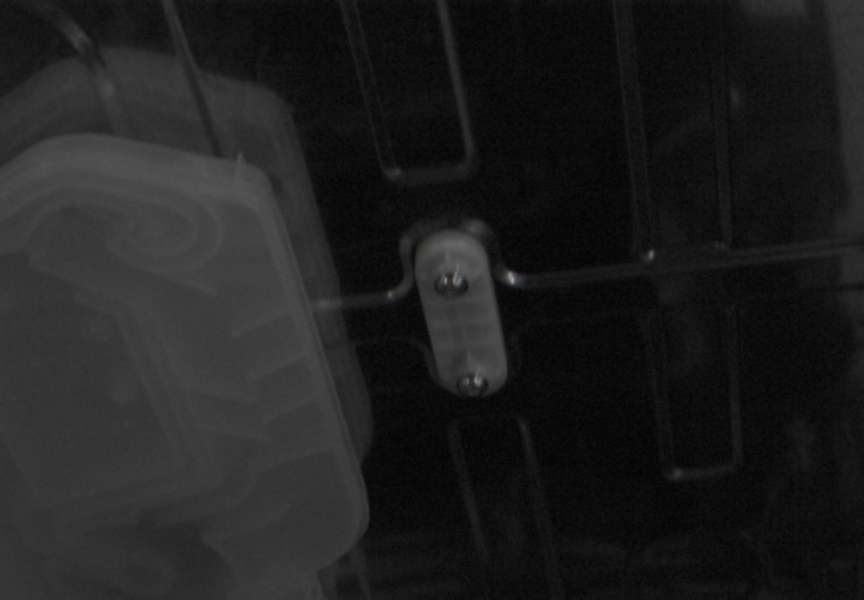screw: (434, 271, 469, 298), (457, 373, 488, 398)
